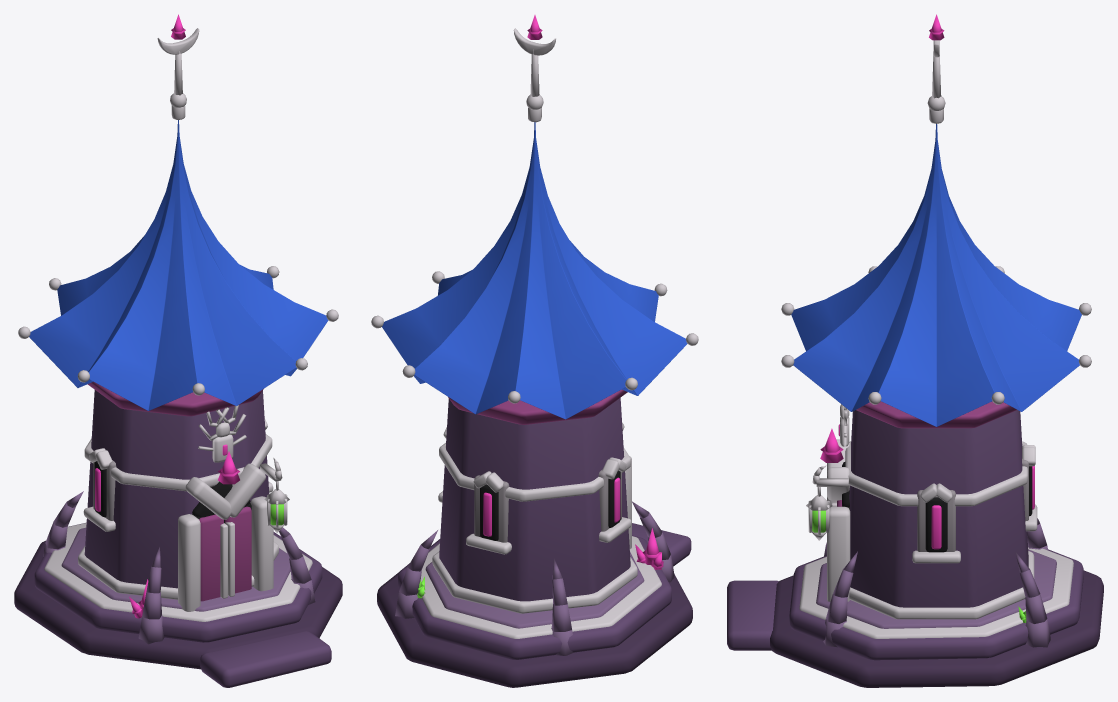
File: Cottage.glb
The picture shows the model from 3 angles, left to right: view 1: azimuth 30°, elevation 25°; view 2: azimuth 150°, elevation 25°; view 3: azimuth 270°, elevation 25°; orthographic projection. The views are drawn at different scales.
Visible parts, largest first — view 1: Cottage; view 2: Cottage; view 3: Cottage.
Boxes of the visible parts, <box> form: Cottage: <box>14,14,342,687</box>; Cottage: <box>371,15,698,687</box>; Cottage: <box>727,14,1103,687</box>.
Size of the model in its own units: 1.85 by 4.03 by 2.25.
